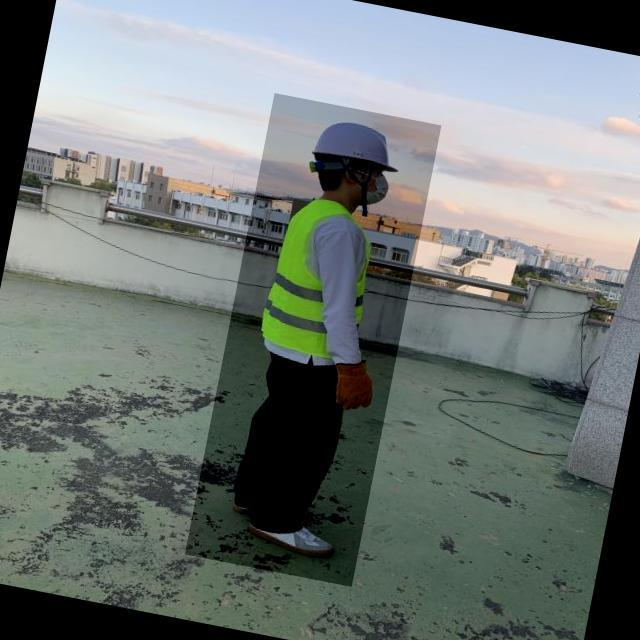Gloves: (328, 354, 381, 415)
Helmet: (311, 116, 407, 174)
Person: (186, 64, 427, 584)
Safety Boot: (244, 515, 338, 561)
Safety Vest: (257, 192, 383, 364)
